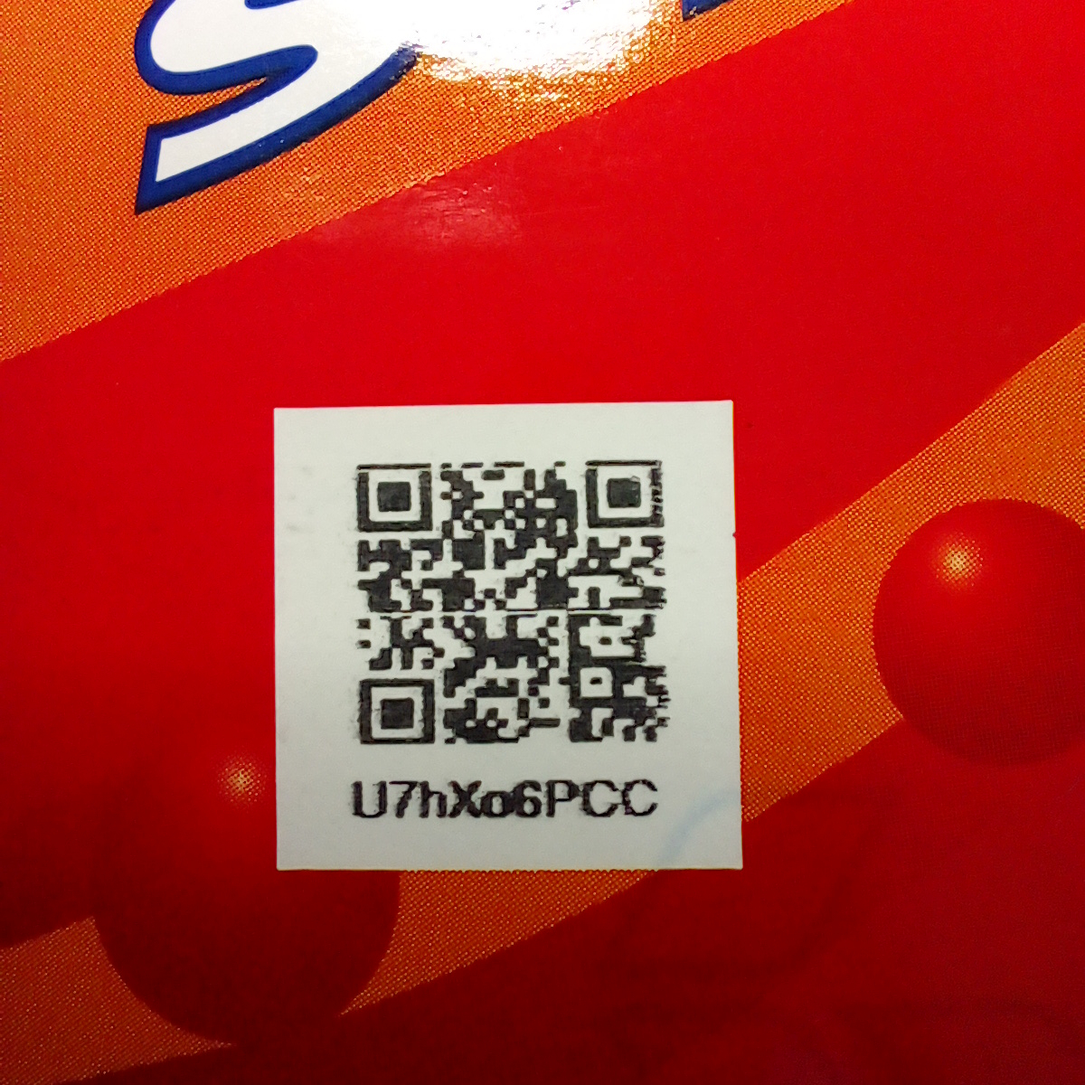QR-CODE: (340, 451, 681, 755)
